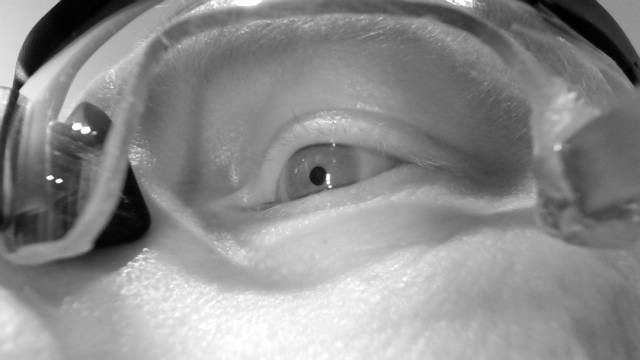pupil: (308, 165, 328, 187)
